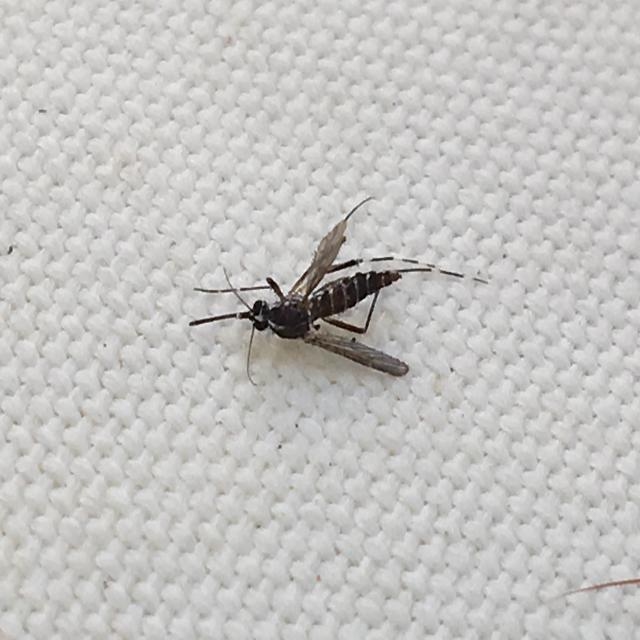albopictus: (189, 181, 478, 401)
